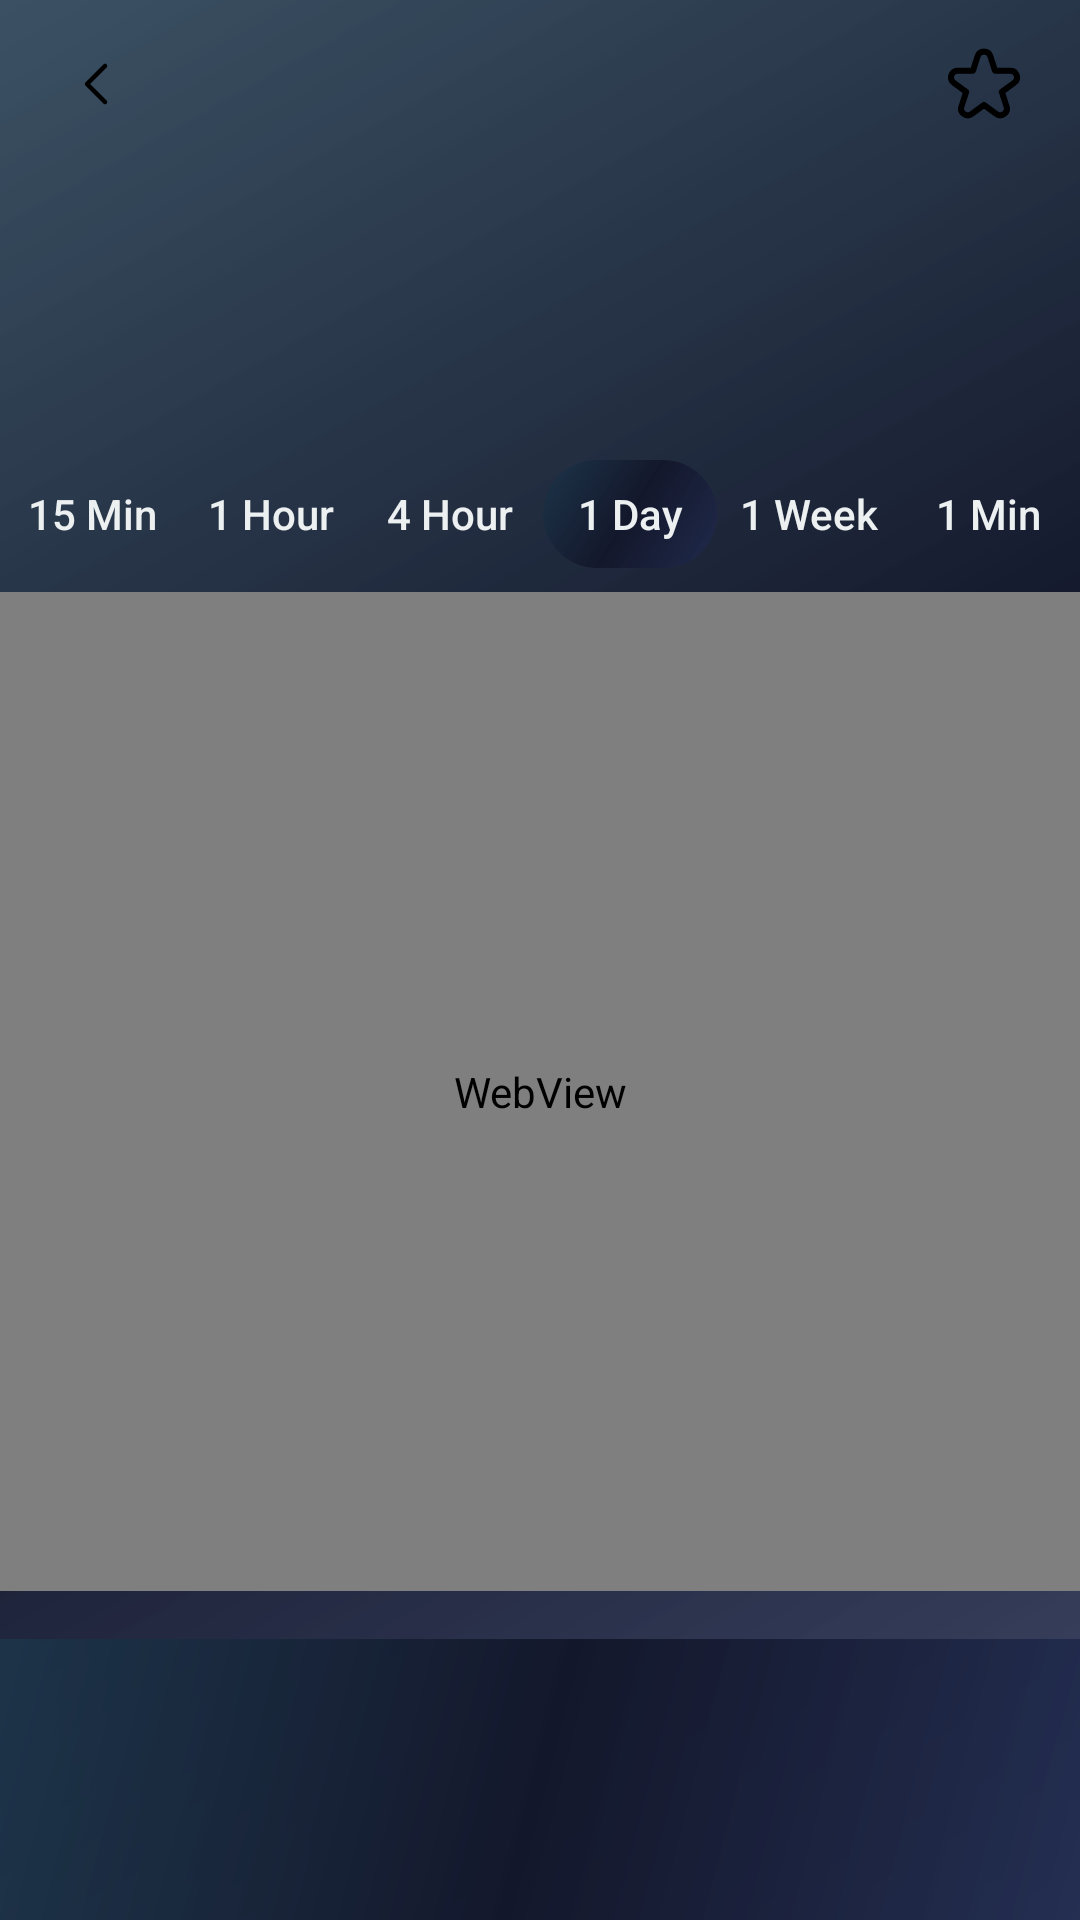

Icon click points for this 1080px×1920px phone screenshot, format (x,y):
back: (96,84)
star: (984,83)
